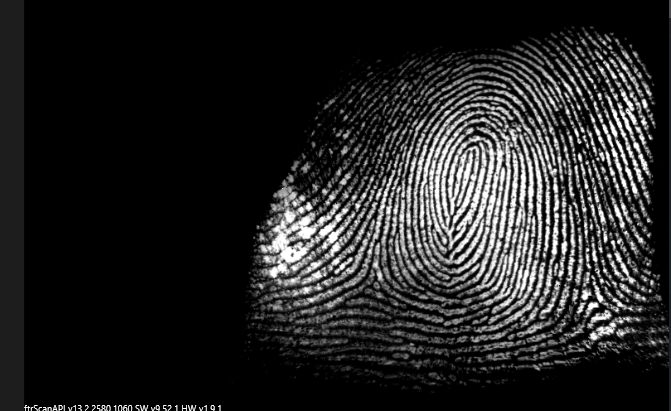nucelo: (448, 138, 487, 212)
verticilo: (572, 272, 611, 315), (357, 267, 389, 298)
